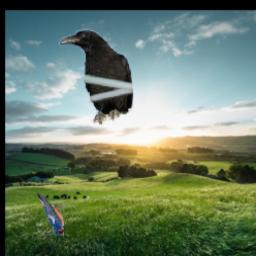Crow: (59, 29, 134, 125)
Swallow: (37, 193, 65, 237)
